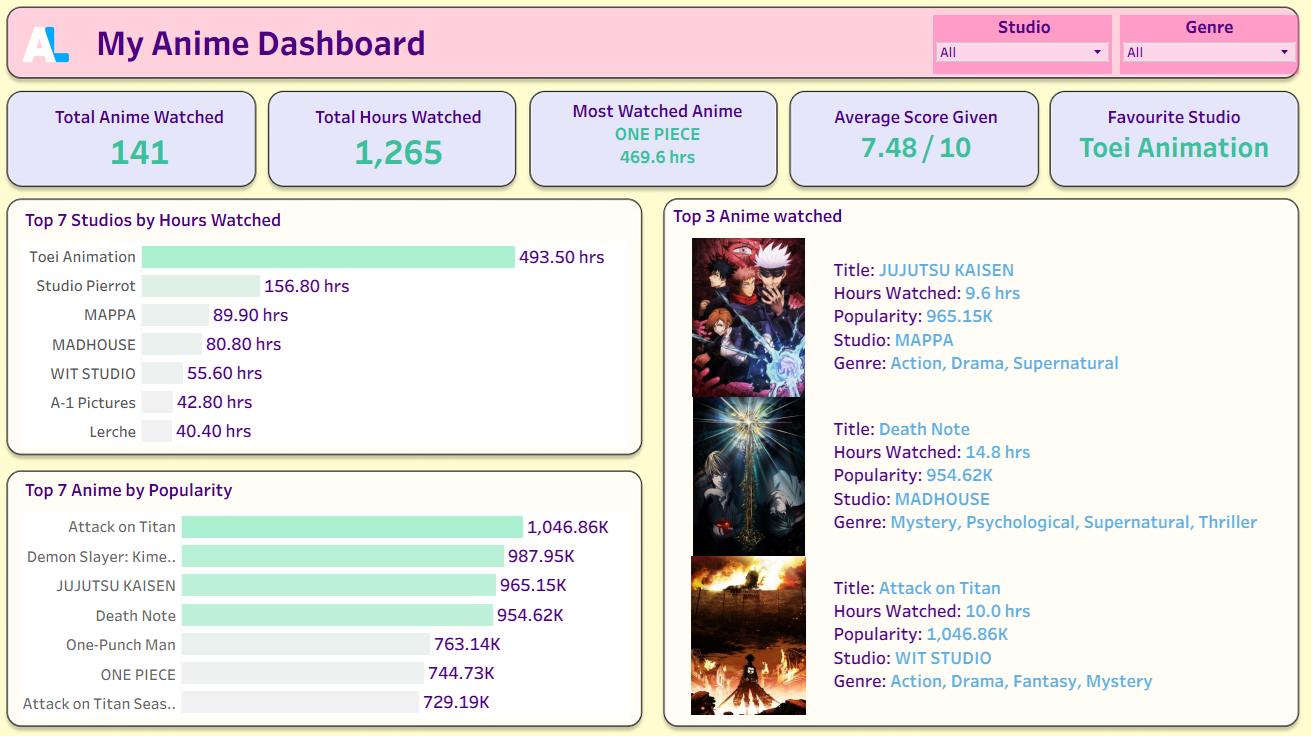

What the dashboard file says about the page in this screenshot:
{"tool":"tableau","page":{"name":"Dashboard 1","canvas":[1366,768],"ordinal":0},"visuals":[{"type":"image","param":"Image/My Anime Dashboard BG_1.png","box":[8,8,1350,752]},{"type":"image","param":"Image/icon.svg","box":[31.9,26.9,76,67.2]},{"type":"worksheet","title":"My Anime Dashboard","mark":"Automatic","box":[107.9,26.9,841,67.2]},{"type":"parameter","param":"[Parameters].[Parameter 2]","box":[948.9,26.9,186.9,67.2]},{"type":"parameter","param":"[Parameters].[Parameter 1]","box":[1135.8,26.9,186.9,67.2]},{"type":"worksheet","title":"Total Anime Watched","mark":"Automatic","box":[30,106,259,98]},{"type":"worksheet","title":"Total Hours Watched","mark":"Automatic","box":[289,106,259,98]},{"type":"worksheet","title":"Most Watched Anime","mark":"Text","box":[548,106,259,98]},{"type":"worksheet","title":"Average Score Given","mark":"Automatic","box":[807,106,258,98]},{"type":"worksheet","title":"Favourite Studio","mark":"Text","box":[1065,106,258,98]},{"type":"worksheet","title":"Top 3 Anime","mark":"Text","rows":["Calculation_1232297491467657227"],"box":[688.7,215,631.8,526.1]},{"type":"worksheet","title":"Top 7 Studios","mark":"Bar","rows":["studio"],"cols":["Calculation_1232297491372716035"],"box":[30.7,217,627.2,255.4]},{"type":"worksheet","title":"Top 7 Anime by Pop","mark":"Bar","rows":["Calculation_1232297491369115648"],"cols":["popularity"],"box":[30.7,488.6,629.5,255.4]}]}

Visuals, with their boxes in screenshot pixels (x1, y1, x2, y2), scaled from the page's 1366x768 canvas onto the 1311x736 screenshot:
image: pyautogui.locateOnScreen(8, 8, 1303, 728)
image: pyautogui.locateOnScreen(31, 26, 104, 90)
"My Anime Dashboard" worksheet: pyautogui.locateOnScreen(104, 26, 911, 90)
parameter: pyautogui.locateOnScreen(911, 26, 1090, 90)
parameter: pyautogui.locateOnScreen(1090, 26, 1269, 90)
"Total Anime Watched" worksheet: pyautogui.locateOnScreen(29, 102, 277, 196)
"Total Hours Watched" worksheet: pyautogui.locateOnScreen(277, 102, 526, 196)
"Most Watched Anime" worksheet (Text marks): pyautogui.locateOnScreen(526, 102, 775, 196)
"Average Score Given" worksheet: pyautogui.locateOnScreen(775, 102, 1022, 196)
"Favourite Studio" worksheet (Text marks): pyautogui.locateOnScreen(1022, 102, 1270, 196)
"Top 3 Anime" worksheet (Text marks): pyautogui.locateOnScreen(661, 206, 1267, 710)
"Top 7 Studios" worksheet (Bar marks): pyautogui.locateOnScreen(29, 208, 631, 453)
"Top 7 Anime by Pop" worksheet (Bar marks): pyautogui.locateOnScreen(29, 468, 634, 713)
